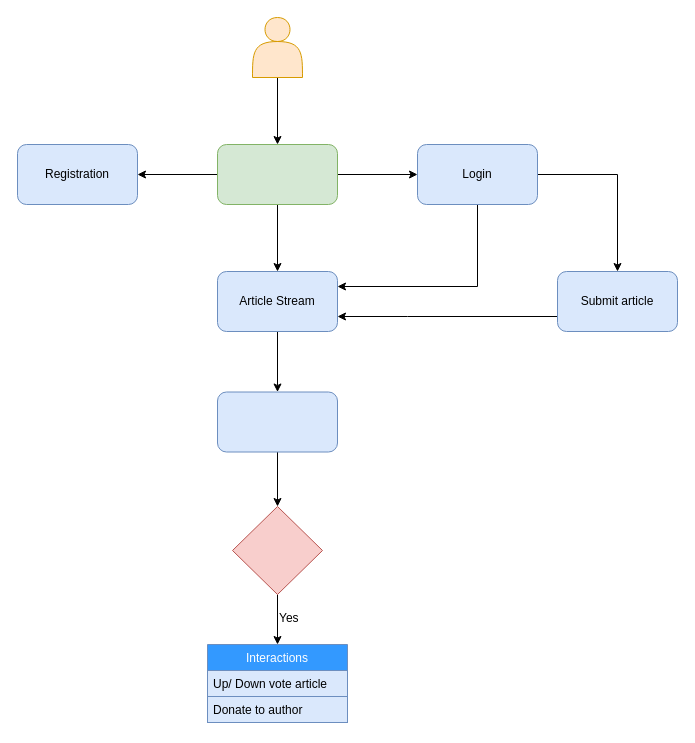
This 695x743 diagram has some shape labels left out. The centre of each missing label's shape, as x and y in pixels:
Is logged in ?: the point at 277,550
UZ Homepage: the point at 277,174
View Article: the point at 277,421
